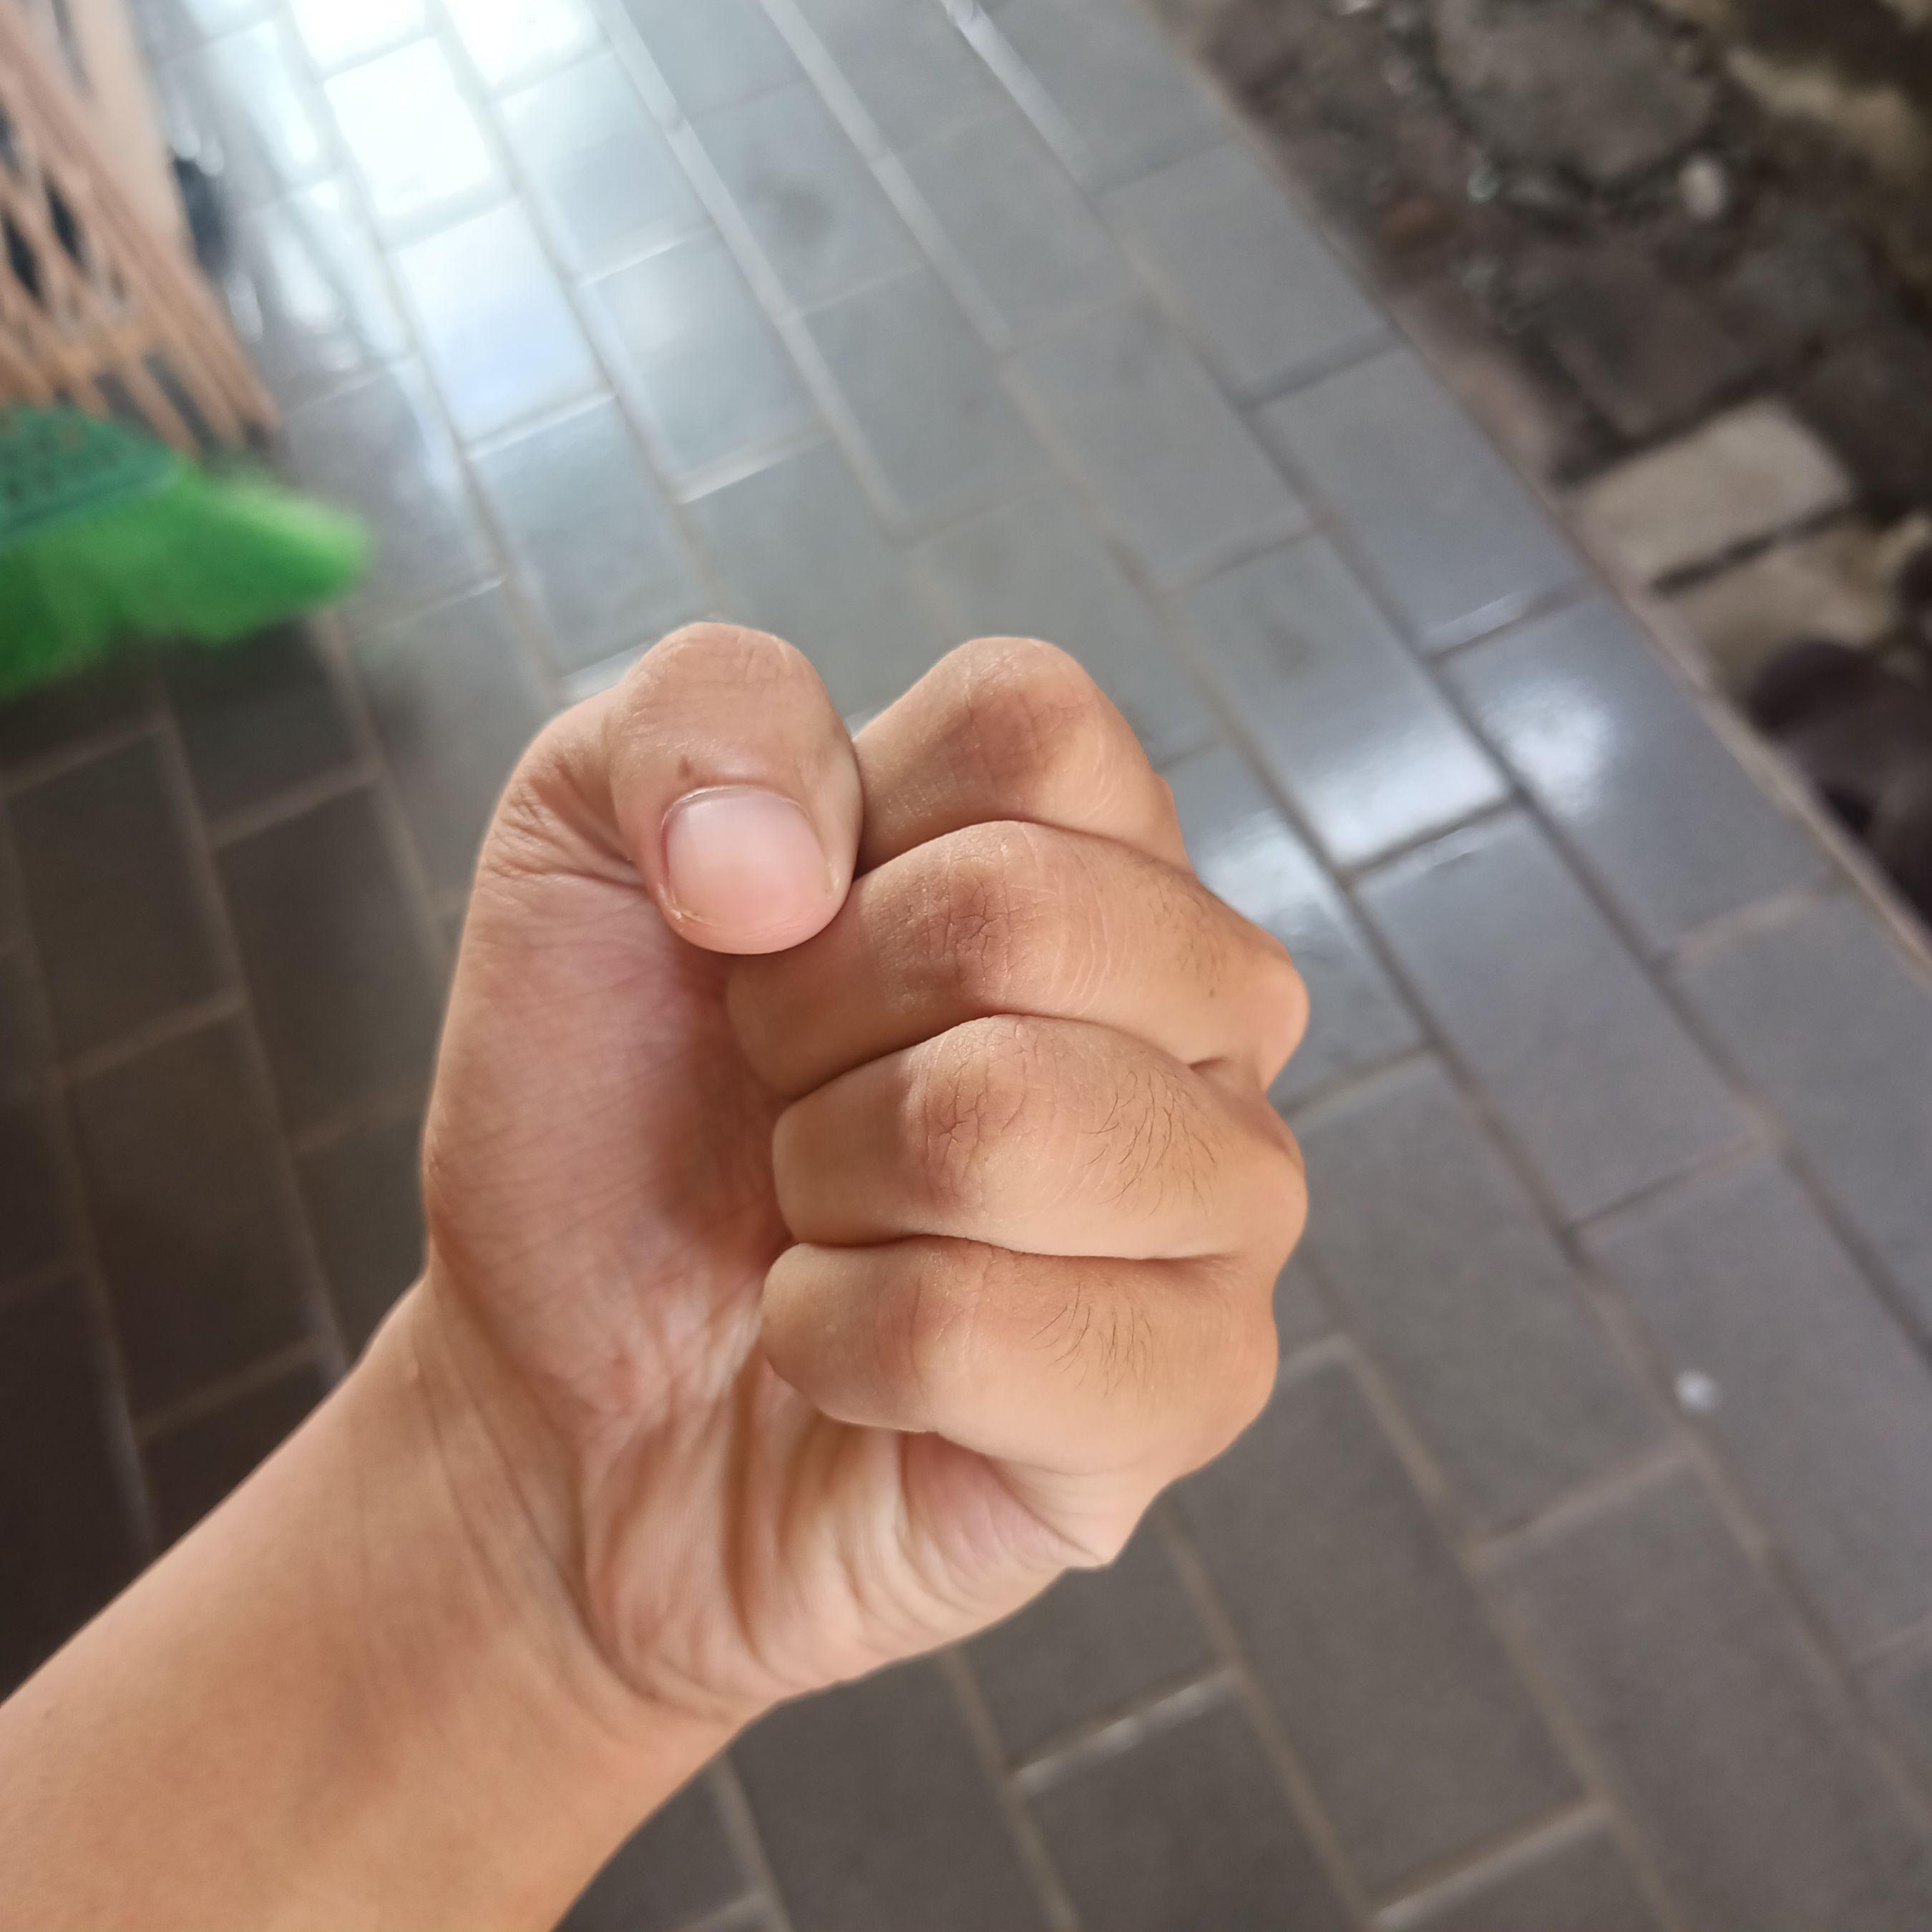rock: (403, 605, 1327, 1755)
